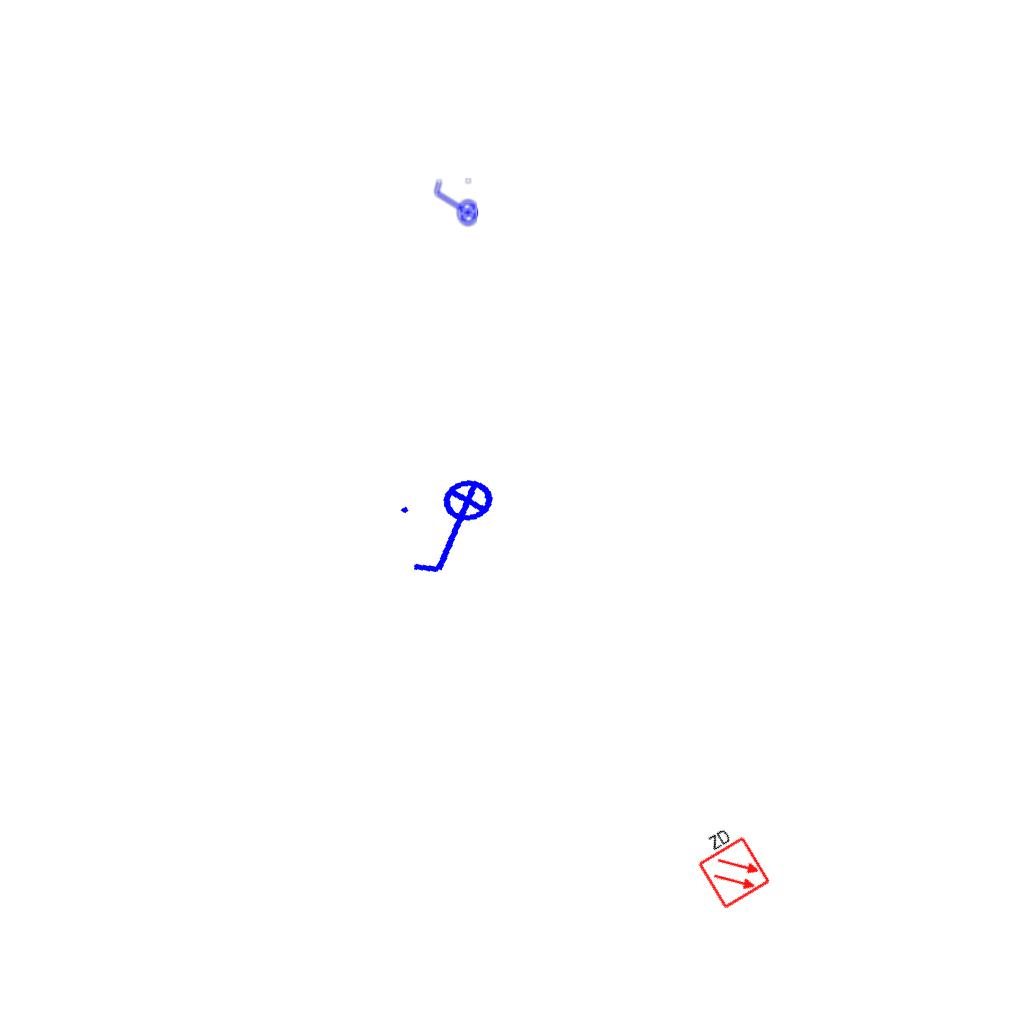Ausschalter_beleuchtet: (392, 472, 518, 586), (431, 176, 479, 232)
ZD_Melder_in_Zwischendecke_mit_Revisionsoeffnung_mind_40_x_40_cm: (685, 818, 772, 912)
